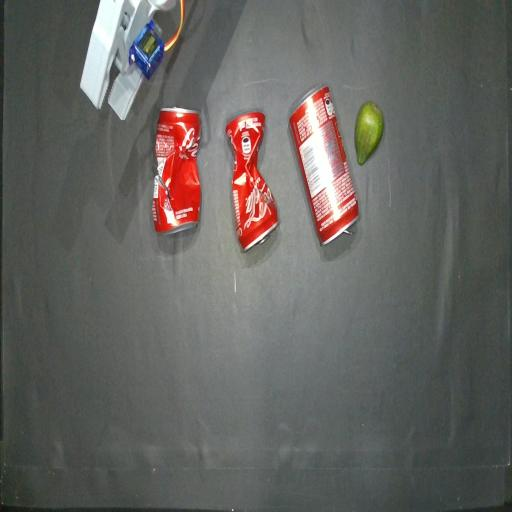higo: (355, 101, 383, 165)
lata: (290, 87, 358, 244)
lata_defectuoso: (226, 111, 279, 251), (152, 108, 201, 234)
